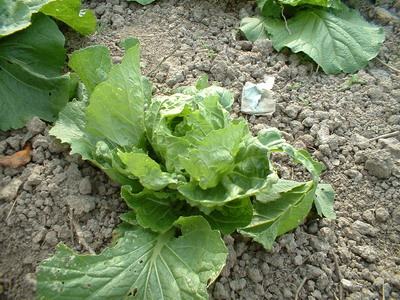cabbage: (32, 36, 337, 299)
